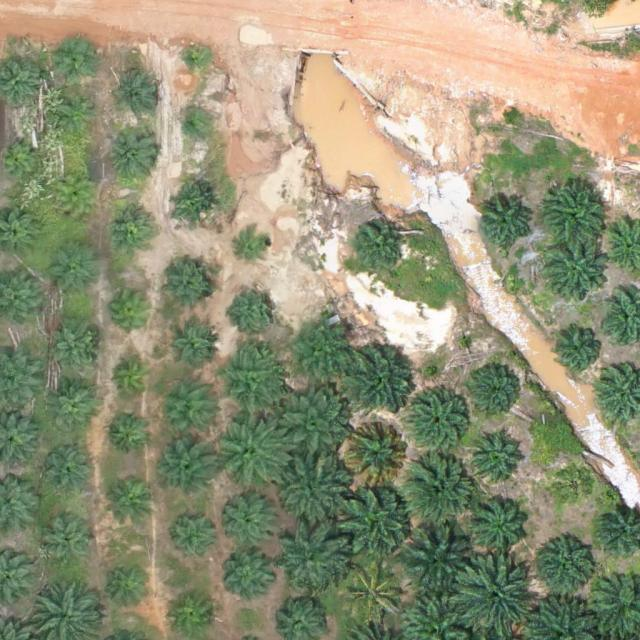Dead: (552, 462, 599, 509)
Grass: (337, 556, 408, 627)
Healthy: (214, 411, 292, 490), (341, 339, 419, 418), (337, 485, 415, 564), (276, 452, 354, 531), (274, 518, 352, 597), (401, 449, 479, 528), (453, 557, 531, 636), (271, 389, 349, 467), (400, 521, 478, 599), (287, 316, 357, 387), (405, 388, 475, 459), (218, 348, 288, 418), (222, 489, 285, 552), (532, 538, 595, 601), (546, 240, 608, 303), (544, 182, 606, 245), (468, 491, 530, 554), (155, 383, 217, 445), (160, 439, 215, 494), (221, 548, 276, 603), (45, 324, 100, 379), (46, 382, 101, 437), (40, 446, 95, 501), (44, 518, 99, 573), (478, 198, 533, 253), (473, 429, 527, 484), (470, 363, 524, 418), (112, 130, 159, 178)
Small: (164, 261, 219, 316), (352, 223, 407, 278), (166, 322, 220, 377), (552, 323, 606, 378), (105, 410, 152, 458), (109, 355, 156, 403), (52, 250, 99, 297), (112, 70, 159, 117), (107, 204, 154, 251), (111, 287, 158, 334), (169, 183, 216, 230), (108, 480, 155, 527), (106, 565, 153, 612), (169, 590, 216, 637), (174, 515, 221, 562), (232, 285, 279, 332), (57, 38, 97, 78), (61, 98, 100, 138), (236, 228, 275, 267), (181, 46, 212, 77), (178, 113, 209, 144)
Yellow: (342, 419, 412, 490), (55, 177, 94, 217)
